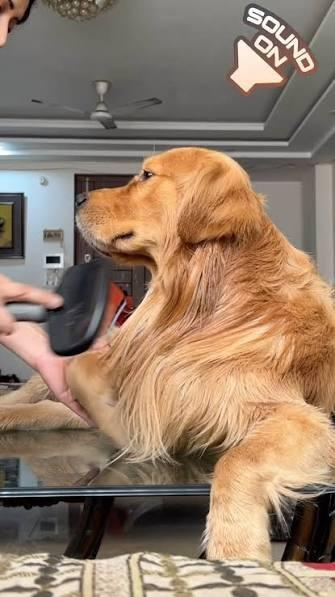adult_dog: (0, 144, 335, 563)
